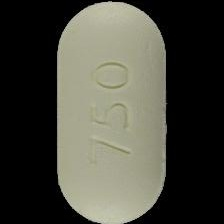60429-280: (0, 0, 224, 224)
